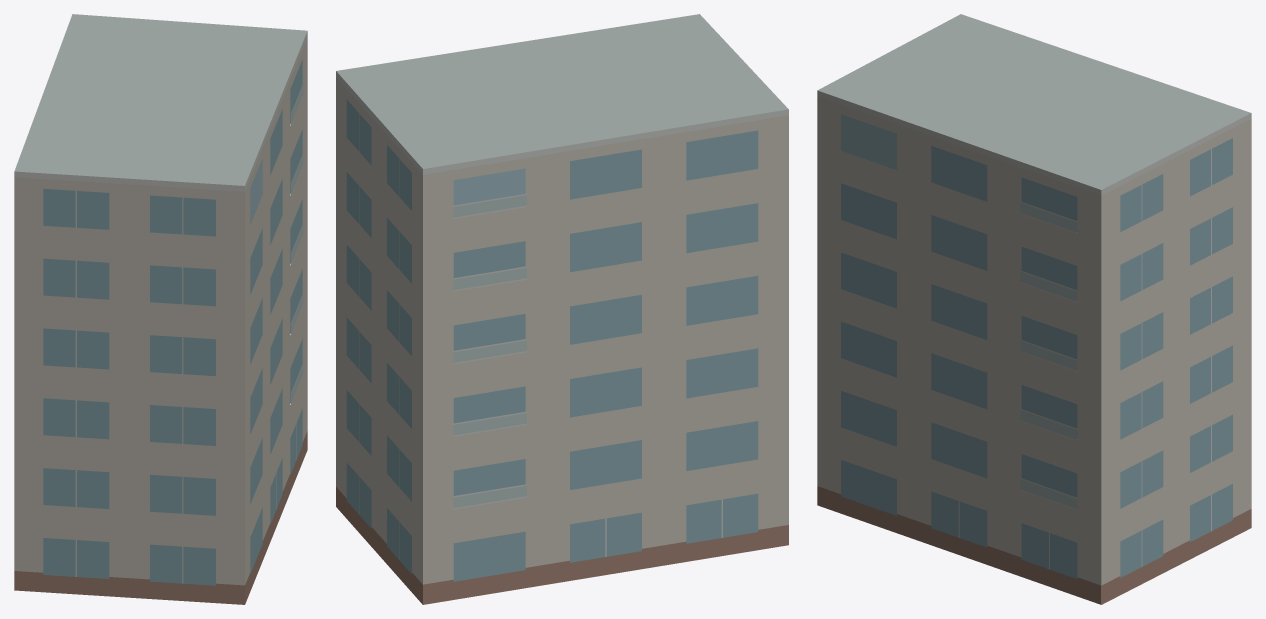
The model's file is survey-upis-32846117.glb.
3 renders of one model, left to right at view 1: azimuth 30°, elevation 25°; view 2: azimuth 150°, elevation 25°; view 3: azimuth 270°, elevation 25°, orthographic. The views are drawn at different scales.
Parts seen in each view (by area): view 1: survey-upis-32846117.tmp; view 2: survey-upis-32846117.tmp; view 3: survey-upis-32846117.tmp.
Part boxes in pixels (bbox=[...]): survey-upis-32846117.tmp: bbox=[14, 14, 307, 604]; survey-upis-32846117.tmp: bbox=[336, 14, 788, 604]; survey-upis-32846117.tmp: bbox=[817, 14, 1251, 604].
Bounding box in the file's own units: 16.66 × 18.3 × 17.37.
